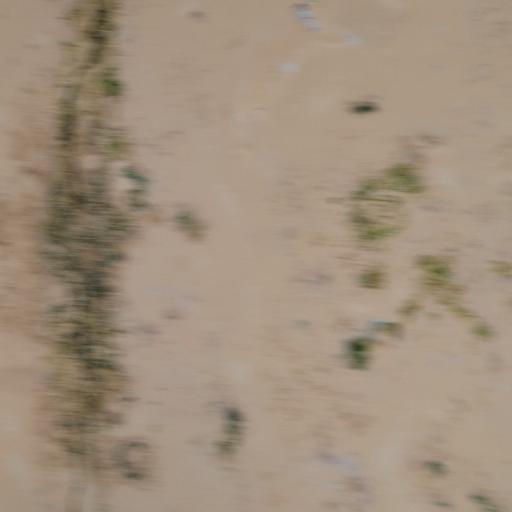algae: (7, 0, 201, 476)
